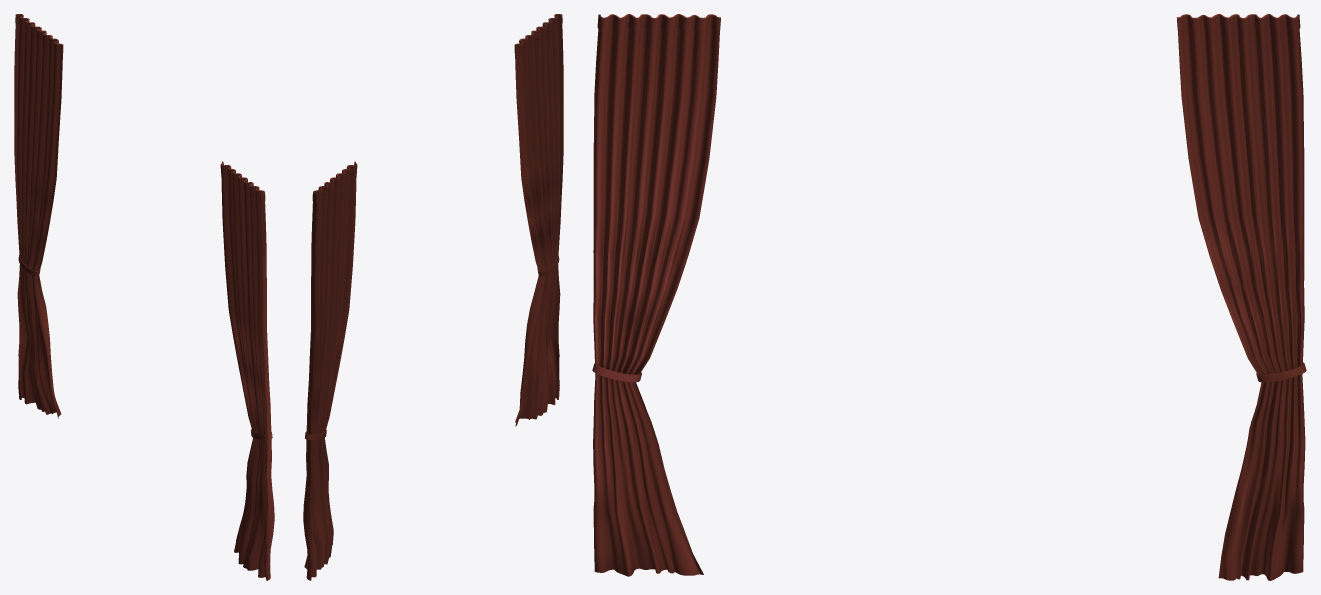
The model's file is ChristmasRoom_Curtain.fbx.
3 views of the same model, side by side, from view 1: azimuth 30°, elevation 25°; view 2: azimuth 150°, elevation 25°; view 3: azimuth 270°, elevation 25° (orthographic). The views are drawn at different scales.
Visible parts, largest first — view 1: ChristmasRoom_Curtain; view 2: ChristmasRoom_Curtain; view 3: ChristmasRoom_Curtain.
Part boxes in pixels (x1,y1,x2,y2): ChristmasRoom_Curtain: (14,14,274,580); ChristmasRoom_Curtain: (303,14,563,580); ChristmasRoom_Curtain: (592,14,1306,580).
Bounding box in the file's own units: 19 × 302 × 353.
